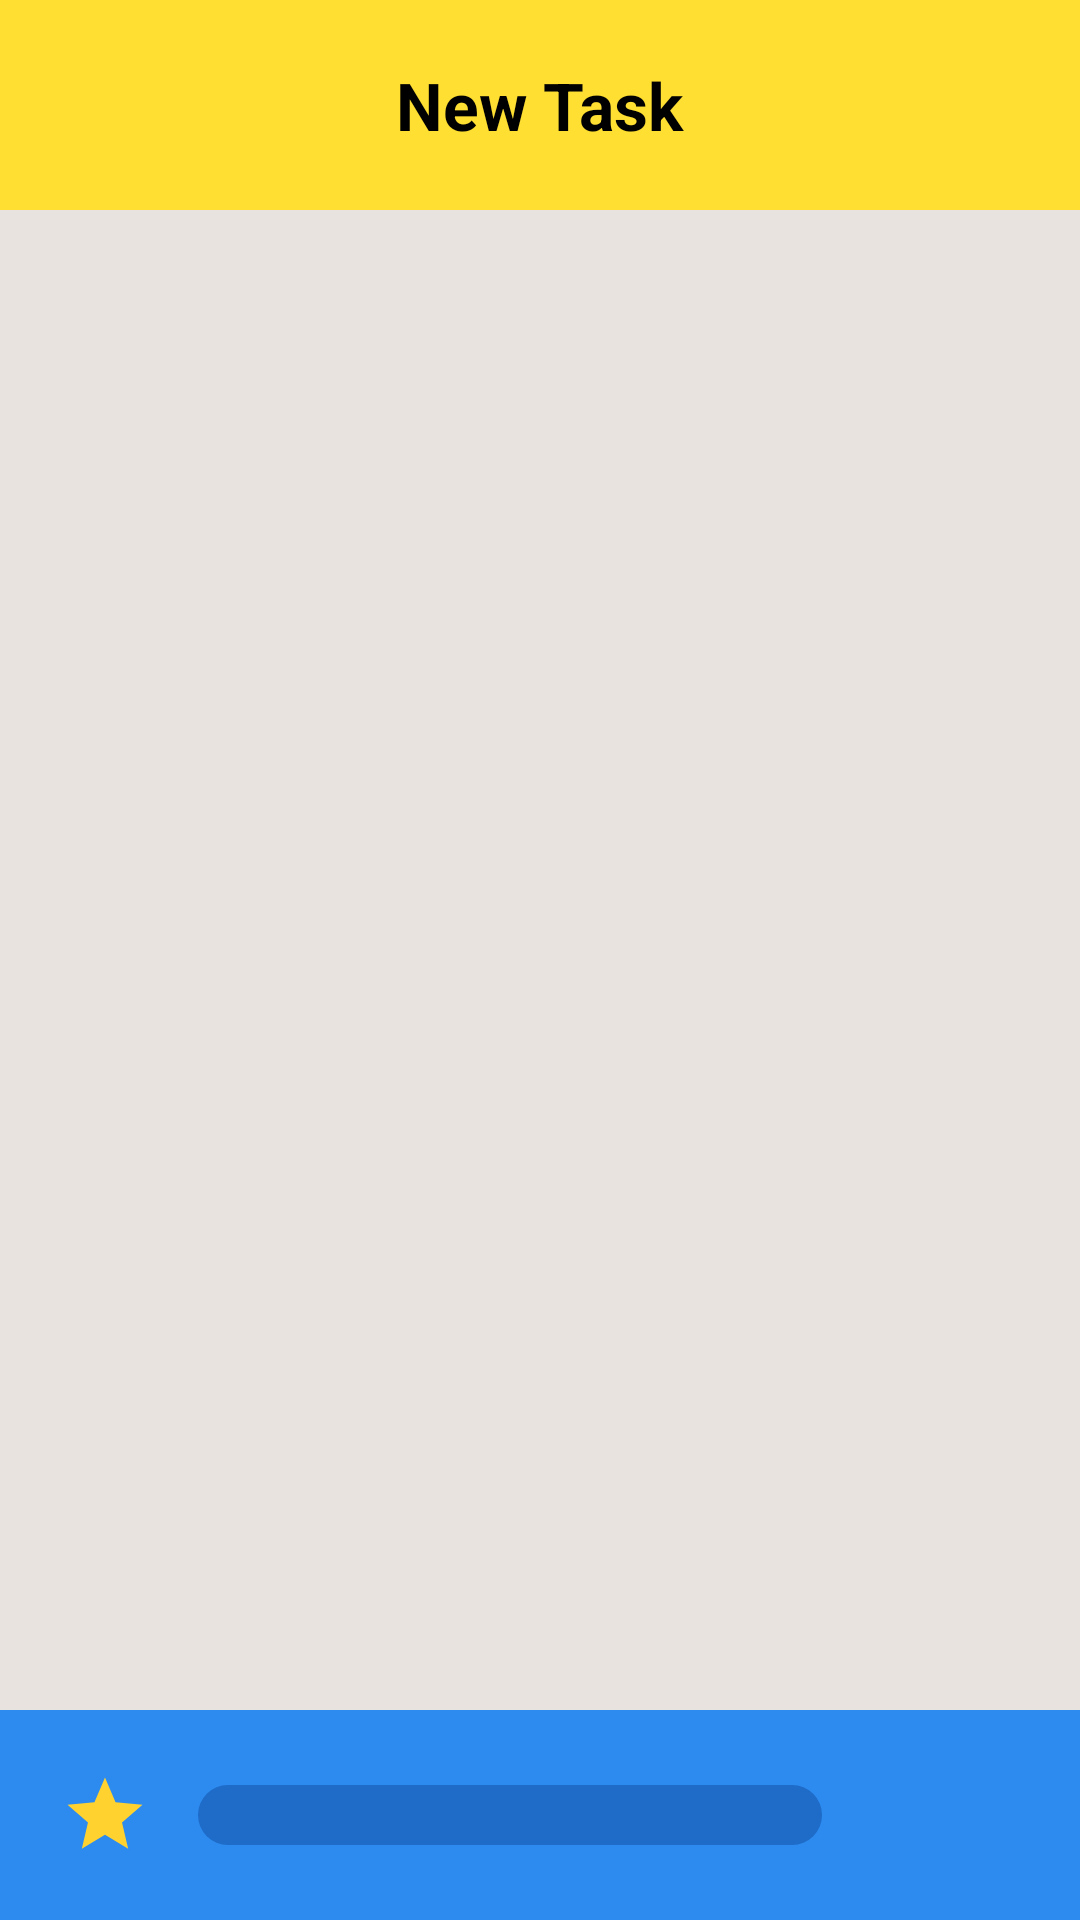

Locate icon controls on the screen. Image size 1080px×1920px, boxes as (x1, y1, x2, y2).
star: (68, 1778, 142, 1849)
